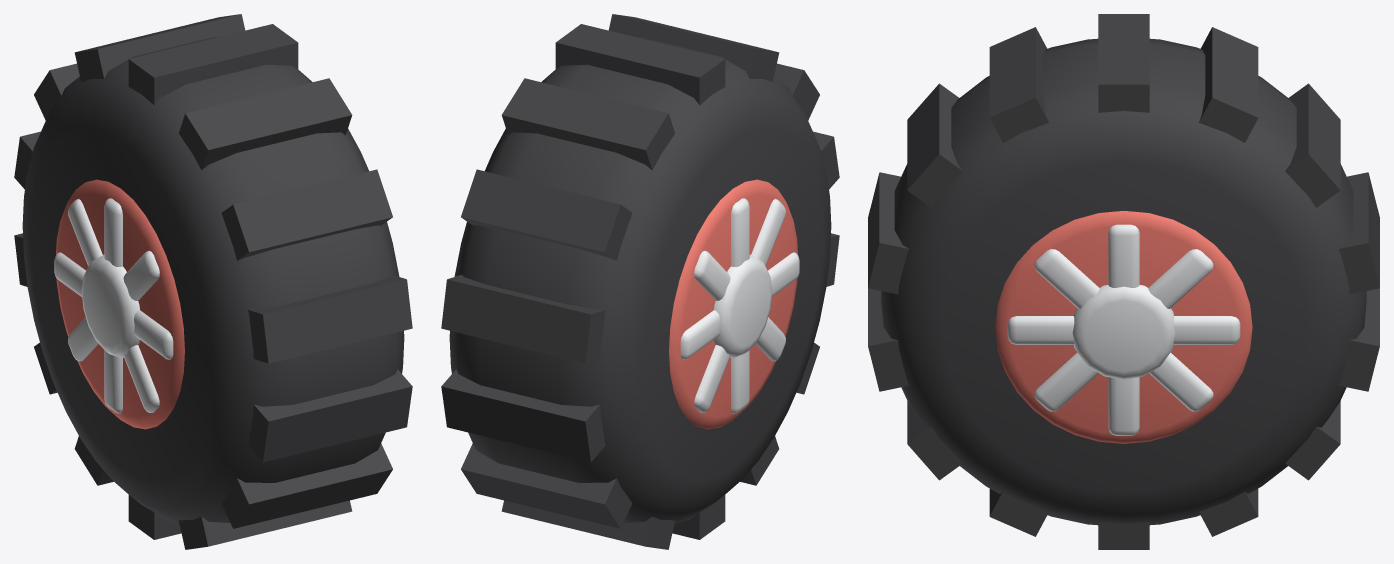
Rendered from Kola_Terenowe.fbx.
3 views of the same model, side by side, from view 1: azimuth 30°, elevation 25°; view 2: azimuth 150°, elevation 25°; view 3: azimuth 270°, elevation 25° (orthographic).
Parts seen in each view (by area): view 1: Kola_Terenowe; view 2: Kola_Terenowe; view 3: Kola_Terenowe.
Boxes of the visible parts, x1=… form: Kola_Terenowe: x1=14, y1=14, x2=412, y2=549; Kola_Terenowe: x1=441, y1=14, x2=839, y2=549; Kola_Terenowe: x1=868, y1=14, x2=1379, y2=549.
Bounding box in the file's own units: 0.55 × 1.1 × 1.1.
